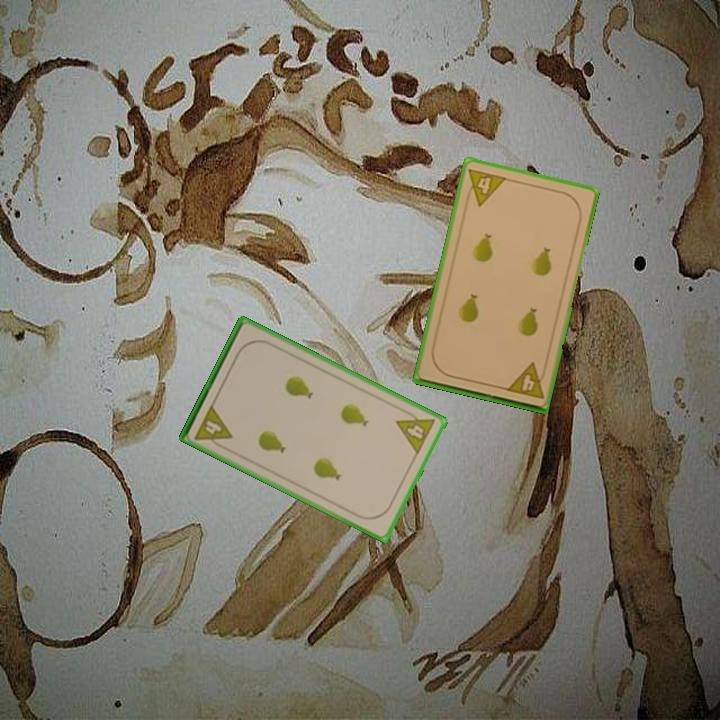4p: (393, 405, 438, 457), (191, 401, 235, 452), (461, 165, 509, 209), (502, 359, 549, 402)
